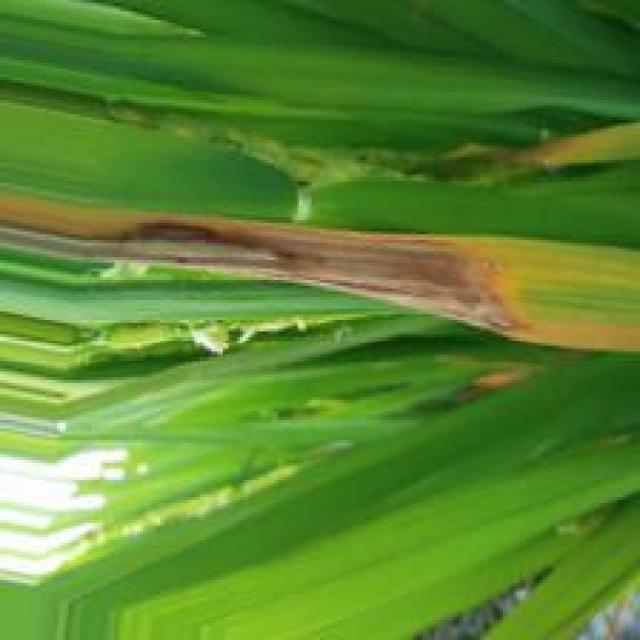Rice False Smut: (3, 210, 529, 332)
